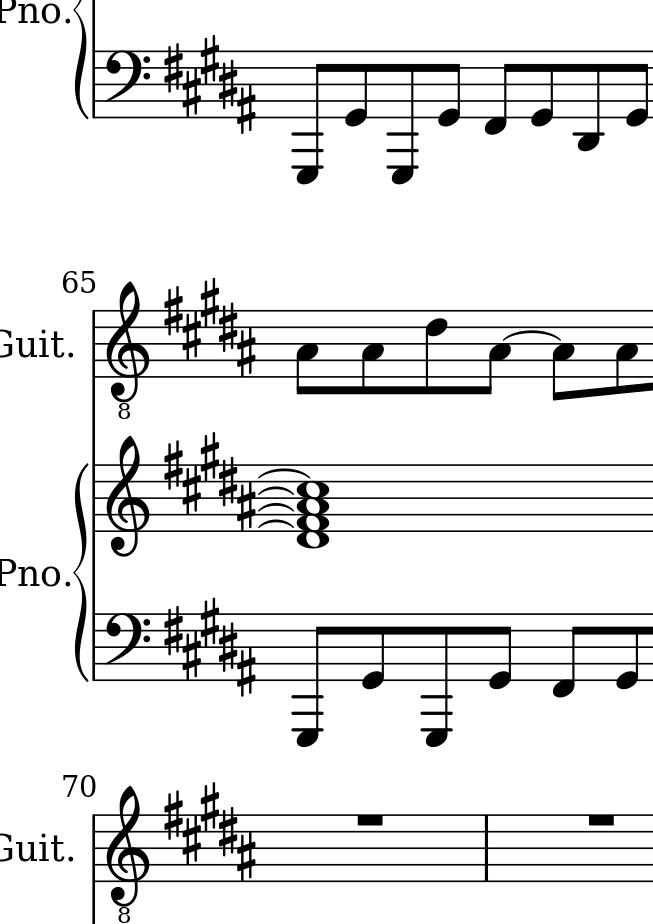0: (80, 771, 96, 799)
1_4th: (296, 464, 330, 550)
5: (80, 266, 95, 297)
6: (61, 265, 80, 298)
7: (62, 773, 78, 799)
8_-1: (479, 49, 518, 135), (550, 611, 586, 700)
8_-3: (574, 49, 604, 153)
8_-7: (291, 48, 332, 187), (292, 611, 332, 749), (421, 611, 454, 748), (388, 48, 418, 186)
8_0: (610, 611, 642, 694), (486, 612, 517, 692), (530, 49, 559, 129), (623, 49, 650, 130), (362, 610, 388, 692), (344, 49, 369, 132), (437, 49, 463, 128)
8_3: (478, 307, 511, 397), (550, 308, 577, 402), (613, 306, 641, 396), (294, 307, 321, 395), (360, 307, 385, 396)
8_6: (422, 308, 450, 398)
Brace: (72, 463, 92, 682)
F_S: (163, 32, 259, 136), (159, 277, 257, 377), (160, 782, 257, 883), (163, 430, 257, 533), (161, 598, 257, 697)
Fclef: (102, 51, 151, 123), (103, 612, 151, 683)
Gclef: (104, 436, 153, 557)
Guit: (1, 319, 69, 369), (1, 826, 62, 867)
Lower_Gclef: (106, 280, 151, 421), (105, 785, 148, 924)
Pno: (1, 554, 65, 596), (1, 1, 62, 34)
Rests1: (579, 805, 621, 829), (352, 804, 388, 829)
Single_barline: (479, 812, 494, 882), (87, 463, 100, 534), (87, 63, 103, 118), (87, 619, 102, 676), (88, 815, 100, 883), (88, 309, 99, 377), (405, 71, 419, 118)
Slur: (256, 465, 315, 478), (505, 331, 565, 339), (255, 486, 295, 497), (257, 501, 295, 512), (257, 519, 294, 530)
